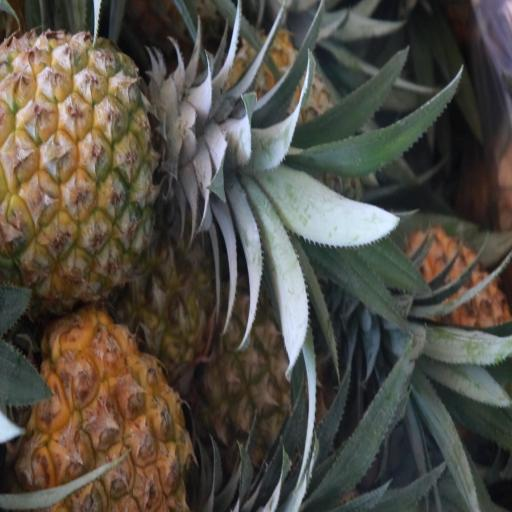Pineapple - v8 v1: (0, 27, 180, 287), (12, 314, 190, 510), (201, 282, 327, 476)
